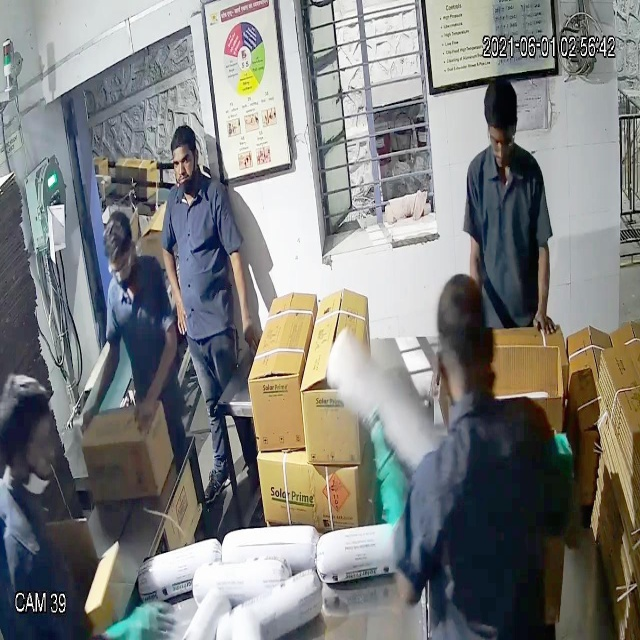Gafas: (97, 246, 139, 289)
